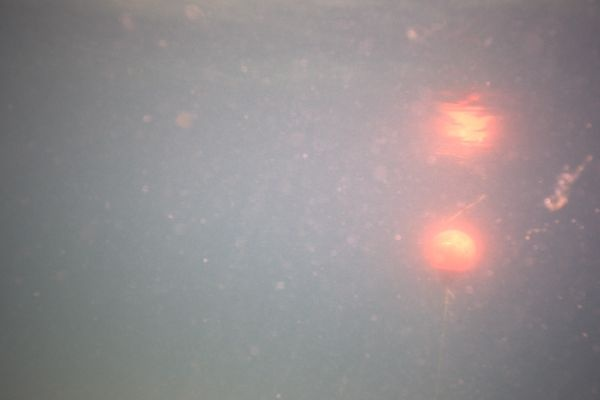buoy: (428, 231, 476, 285)
